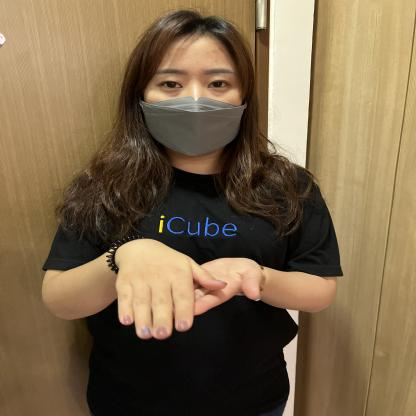Love: (11, 206, 351, 349)
